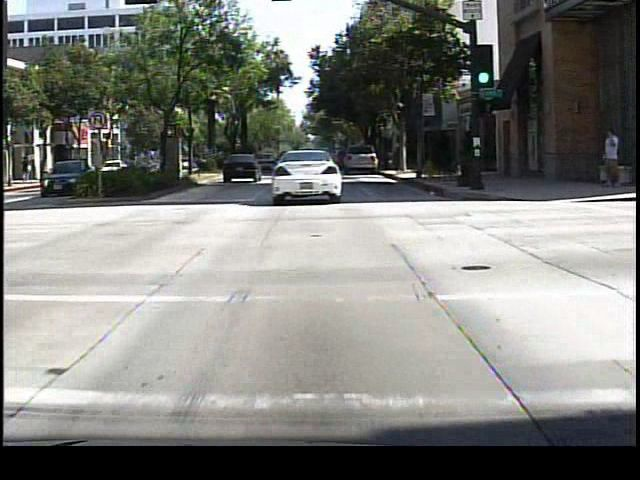person: (597, 124, 621, 193), (19, 152, 36, 186)
